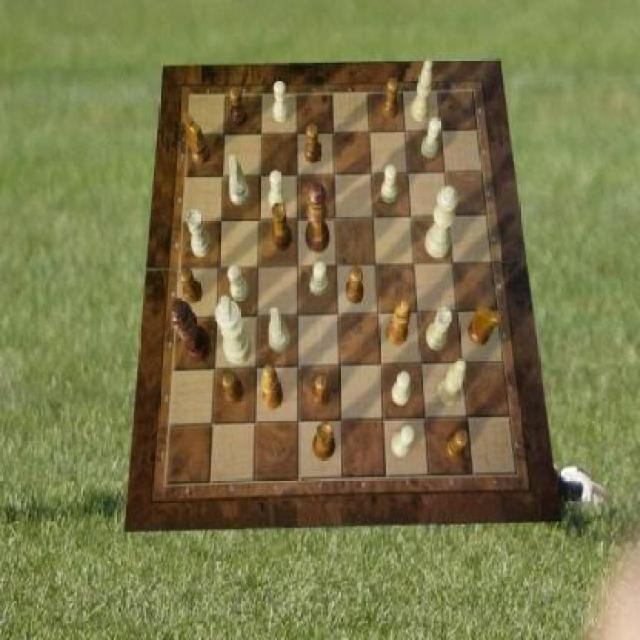bishop: (386, 300, 411, 348), (261, 365, 284, 410)
black-bishop: (171, 298, 211, 364)
black-king: (183, 114, 211, 164), (468, 306, 500, 346)
black-knight: (180, 268, 203, 304), (445, 429, 469, 462), (221, 371, 244, 405), (229, 86, 247, 128), (306, 124, 323, 164), (382, 78, 399, 118), (346, 268, 364, 304), (314, 372, 331, 407)
black-pawn: (306, 182, 331, 252)
black-queen: (272, 203, 292, 251), (314, 422, 337, 460)
black-rook: (411, 58, 433, 121), (439, 359, 466, 406)
white-bishop: (215, 297, 252, 365)
white-king: (269, 308, 292, 354), (231, 156, 251, 207)
white-knight: (422, 117, 442, 158), (392, 425, 416, 457), (228, 265, 248, 302), (274, 80, 291, 122), (392, 371, 412, 405), (269, 171, 286, 211), (382, 166, 398, 205), (311, 262, 328, 296)
white-pawn: (426, 184, 459, 258)
white-queen: (426, 308, 452, 352), (188, 211, 212, 258)
